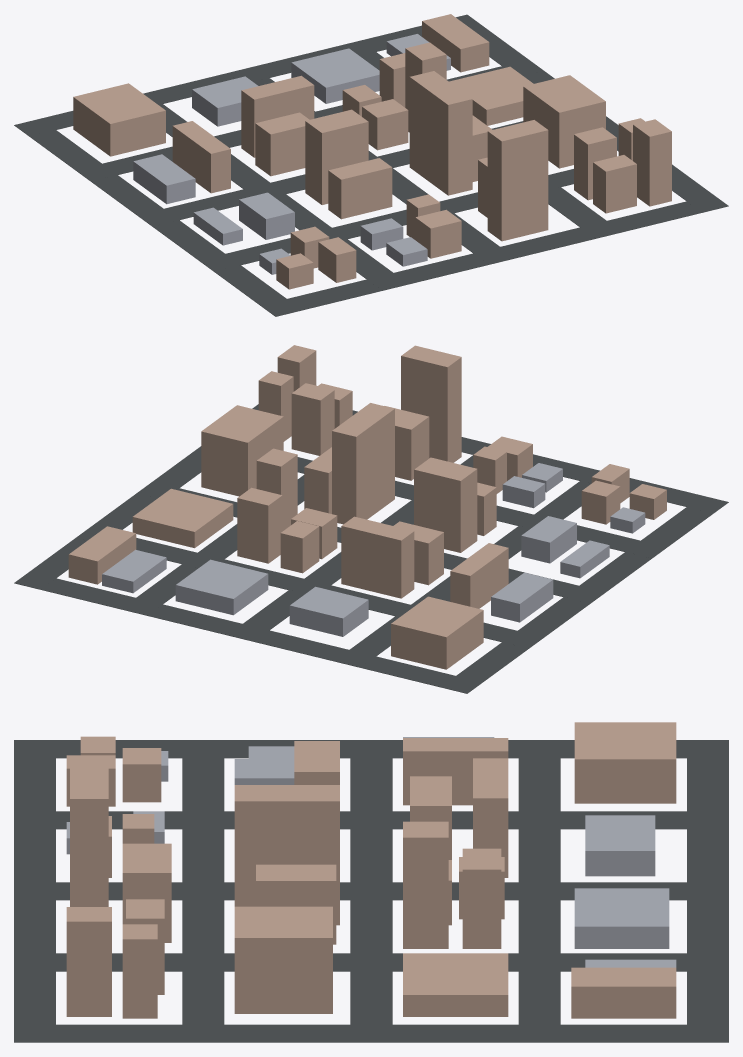
The model's file is city.glb.
3 renders of one model, top to bottom at view 1: azimuth 30°, elevation 25°; view 2: azimuth 150°, elevation 25°; view 3: azimuth 270°, elevation 25°, orthographic. The views are drawn at different scales.
Visible parts, largest first — view 1: Building_00030_b2_3_1, Building_00018_b2_2_0, Building_00000_b0_0_0, Building_00020_b3_2_0, Building_00016_b1_2_0, Building_00017_b1_2_1, Building_00007_b1_1_0, Building_00006_b0_1_1, Building_00002_b2_0_0, Building_00034_b3_3_3, Building_00013_b3_1_0, Building_00008_b1_1_1 (+46 smaller); view 2: Building_00018_b2_2_0, Building_00020_b3_2_0, Building_00030_b2_3_1, Building_00000_b0_0_0, Building_00007_b1_1_0, Building_00016_b1_2_0, Building_00013_b3_1_0, Building_00002_b2_0_0, Building_00011_b2_1_2, Building_00001_b1_0_0, Building_00006_b0_1_1, Building_00031_b3_3_0 (+46 smaller); view 3: Building_00020_b3_2_0, Building_00018_b2_2_0, Building_00000_b0_0_0, Building_00013_b3_1_0, Building_00012_b2_1_3, Building_00002_b2_0_0, Building_00004_b3_0_1, Building_00030_b2_3_1, Building_00034_b3_3_3, Building_00001_b1_0_0, Building_00006_b0_1_1, Building_00011_b2_1_2 (+74 smaller).
Boxes of the visible parts, x1,y1,x2,y2 form: Building_00030_b2_3_1: (487, 120, 548, 241); Building_00018_b2_2_0: (409, 71, 472, 195); Building_00000_b0_0_0: (73, 83, 165, 156); Building_00020_b3_2_0: (523, 75, 605, 168); Building_00016_b1_2_0: (305, 109, 368, 204); Building_00017_b1_2_1: (328, 158, 392, 219); Building_00007_b1_1_0: (241, 75, 314, 157); Building_00006_b0_1_1: (172, 121, 230, 193); Building_00002_b2_0_0: (291, 48, 379, 103); Building_00034_b3_3_3: (633, 119, 671, 206); Building_00013_b3_1_0: (449, 66, 533, 125); Building_00008_b1_1_1: (255, 112, 309, 176); Building_00018_b2_2_0: (332, 403, 394, 524); Building_00020_b3_2_0: (201, 405, 283, 496); Building_00030_b2_3_1: (401, 345, 461, 462); Building_00000_b0_0_0: (391, 596, 483, 669); Building_00007_b1_1_0: (341, 516, 414, 598); Building_00016_b1_2_0: (414, 457, 477, 552); Building_00013_b3_1_0: (132, 488, 233, 548); Building_00002_b2_0_0: (175, 559, 268, 615); Building_00011_b2_1_2: (237, 487, 282, 563); Building_00001_b1_0_0: (289, 586, 368, 636); Building_00006_b0_1_1: (450, 543, 508, 608); Building_00031_b3_3_0: (291, 383, 334, 455); Building_00020_b3_2_0: (234, 906, 332, 1013); Building_00018_b2_2_0: (234, 785, 339, 925); Building_00000_b0_0_0: (574, 722, 676, 803); Building_00013_b3_1_0: (403, 953, 508, 1016); Building_00012_b2_1_3: (403, 821, 448, 948); Building_00002_b2_0_0: (574, 888, 669, 948); Building_00004_b3_0_1: (571, 967, 676, 1018); Building_00030_b2_3_1: (70, 768, 108, 906); Building_00034_b3_3_3: (66, 907, 111, 1016); Building_00001_b1_0_0: (585, 815, 655, 876); Building_00006_b0_1_1: (403, 738, 508, 805); Building_00011_b2_1_2: (462, 848, 501, 948).
Size of the model in its own units: 204 by 43.12 by 204.
